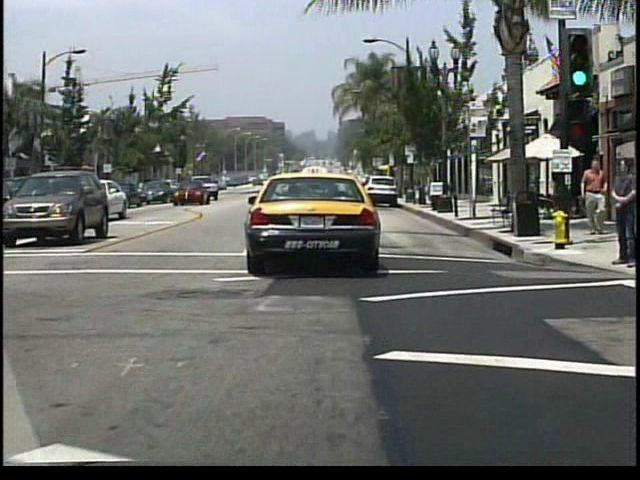person: (579, 159, 606, 236)
